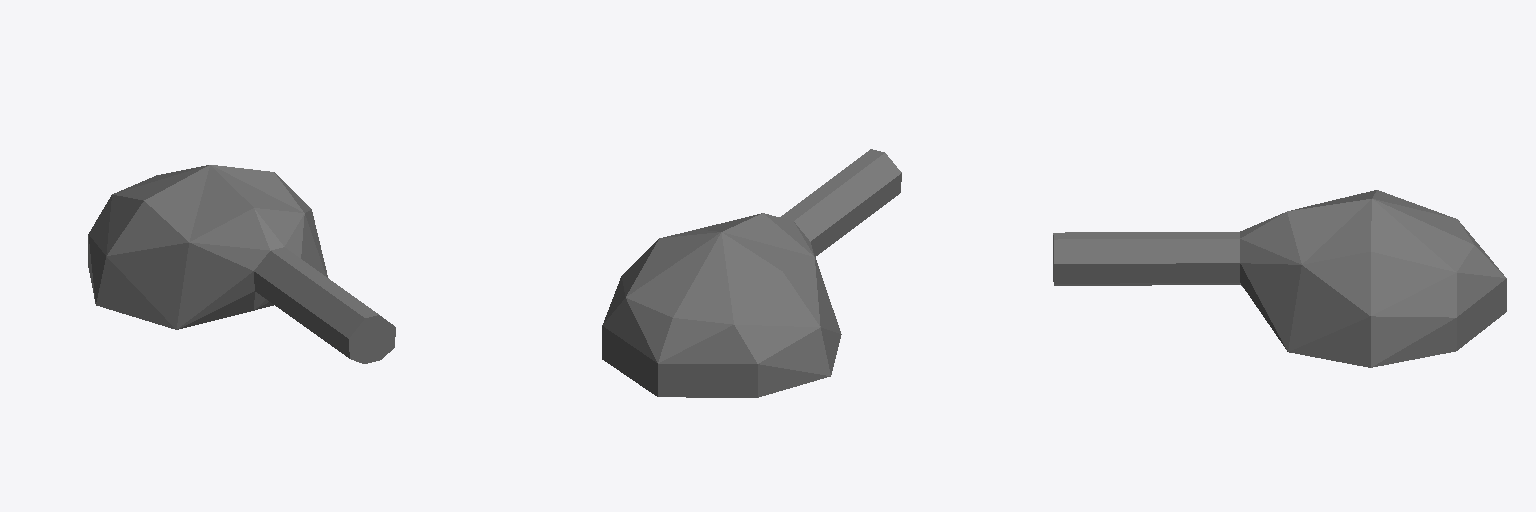
Rendered from wingTurret.obj.
The picture shows the model from 3 angles: view 1: azimuth 30°, elevation 25°; view 2: azimuth 150°, elevation 25°; view 3: azimuth 270°, elevation 25°; orthographic projection.
Visible parts, largest first — view 1: highwingTurret; view 2: highwingTurret; view 3: highwingTurret.
Part boxes in pixels (bbox=[...]): highwingTurret: bbox=[88, 165, 395, 363]; highwingTurret: bbox=[602, 149, 901, 397]; highwingTurret: bbox=[1053, 190, 1506, 367].
Bounding box in the file's own units: 2.77 × 1.36 × 4.86.